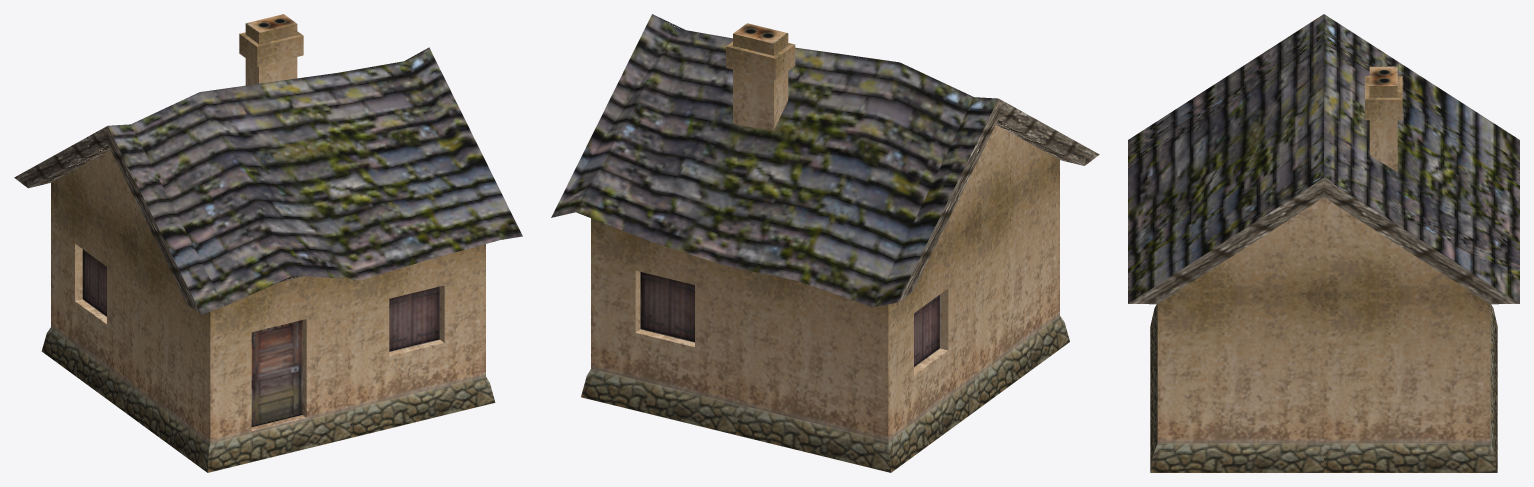
The model's file is s44_b_house_2_1.dae.
3 renders of one model, left to right at view 1: azimuth 30°, elevation 25°; view 2: azimuth 150°, elevation 25°; view 3: azimuth 270°, elevation 25°, orthographic. The views are drawn at different scales.
Visible parts, largest first — view 1: s44_b_house_1_1; view 2: s44_b_house_1_1; view 3: s44_b_house_1_1.
Part boxes in pixels (box(x1,y1,x2,y2)): s44_b_house_1_1: box(14, 14, 522, 472); s44_b_house_1_1: box(551, 14, 1099, 472); s44_b_house_1_1: box(1128, 14, 1519, 472).
Size of the model in its own units: 56 by 56.55 by 54.08.
1 material, 1 textured.
